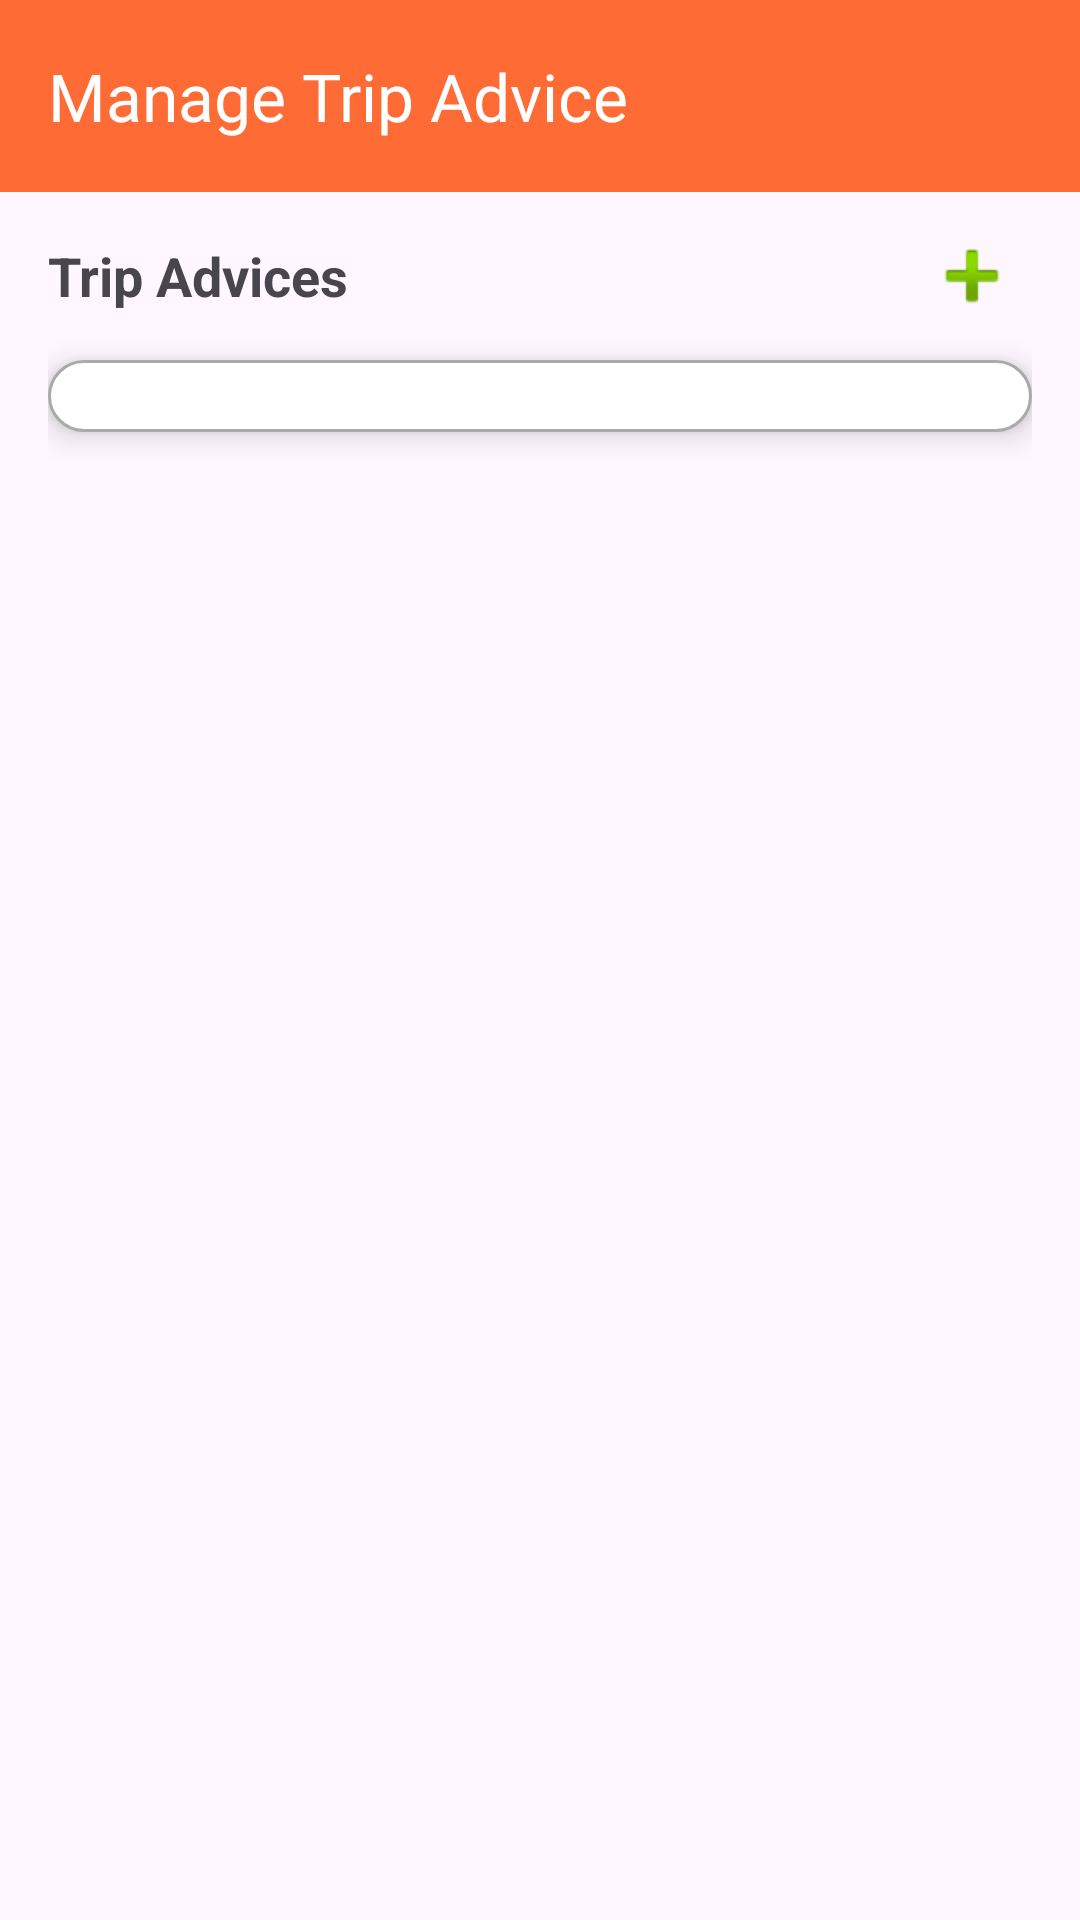

Screen size 1080x1920. Icon name, then its box in pixels as (x1, y1, x2, y2):
Add Trip Advice: (945, 249, 999, 303)
